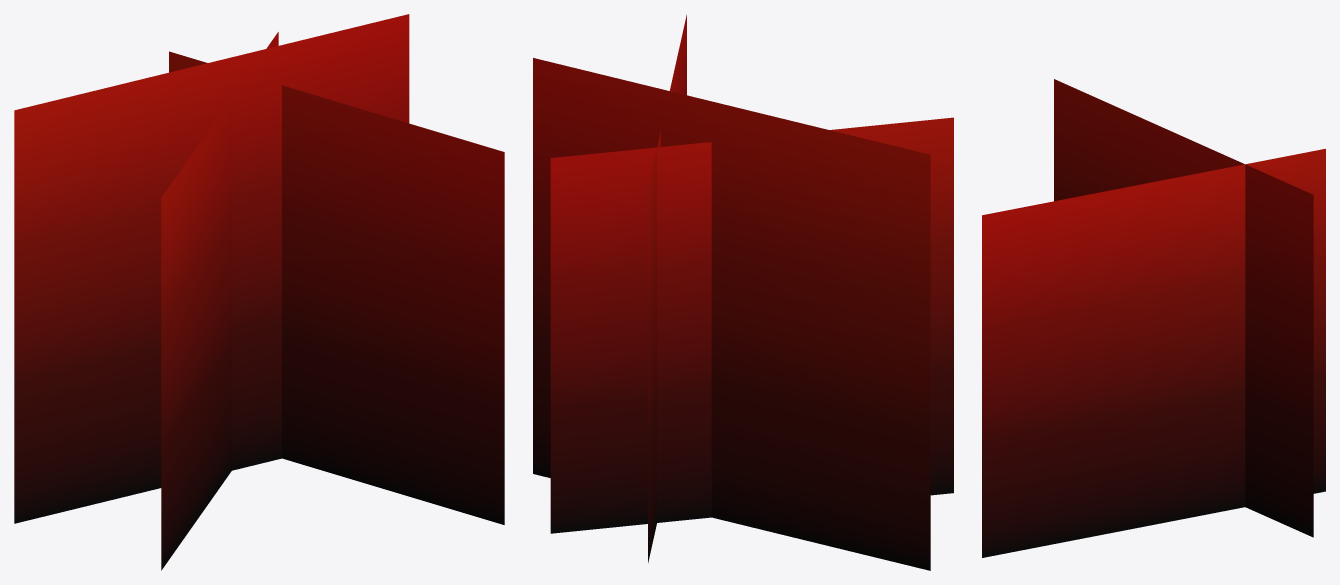
Rendered from Grass.fbx.
3 renders of one model, left to right at view 1: azimuth 30°, elevation 25°; view 2: azimuth 150°, elevation 25°; view 3: azimuth 270°, elevation 25°, orthographic. The views are drawn at different scales.
Parts seen in each view (by area): view 1: Plane.002; view 2: Plane.002; view 3: Plane.002.
Part boxes in pixels (x1,y1,x2,y2): Plane.002: (14, 14, 504, 570); Plane.002: (533, 14, 953, 570); Plane.002: (982, 79, 1325, 557).
Size of the model in its own units: 40 by 40 by 32.82.
